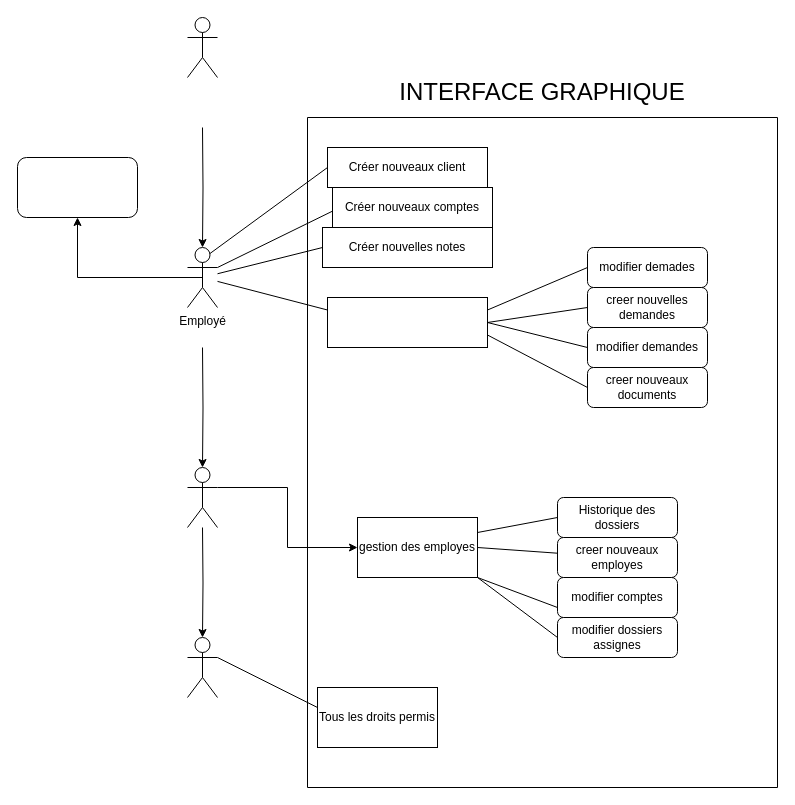
This 795x805 diagram has some shape labels left out. The centre of each missing label's shape, as x and y in pixels:
Admin: (x=202, y=667)
Clients: (x=202, y=47)
Connecter a ladmin: (x=77, y=187)
Gestion du comptes: (x=407, y=322)
Superviseur: (x=202, y=497)
